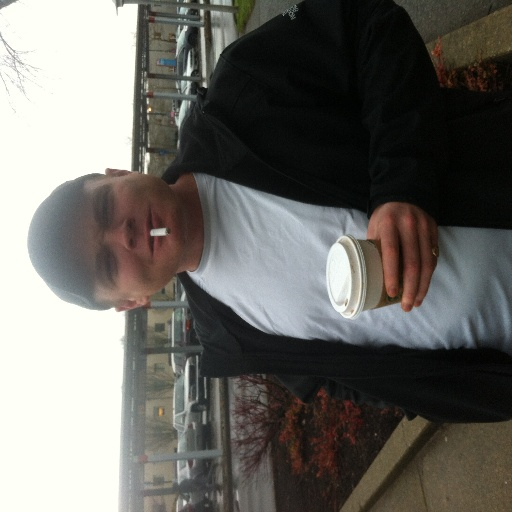hand: (370, 193, 443, 307)
